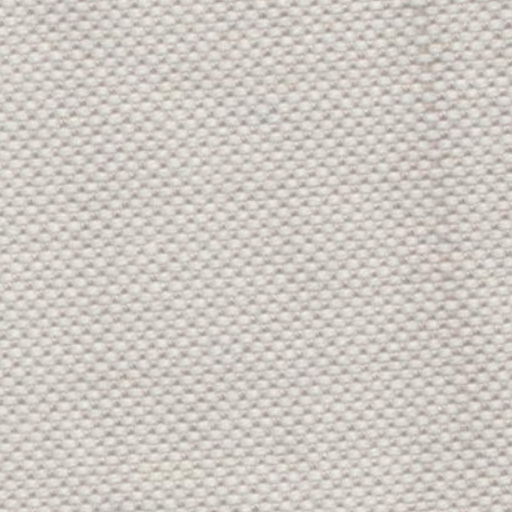TuoSha: (380, 6, 484, 499)
